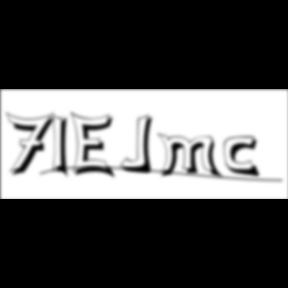7: (6, 111, 60, 179)
E: (70, 110, 120, 182)
I: (52, 110, 76, 182)
J: (120, 114, 160, 176)
c: (224, 136, 264, 180)
m: (157, 132, 225, 181)
